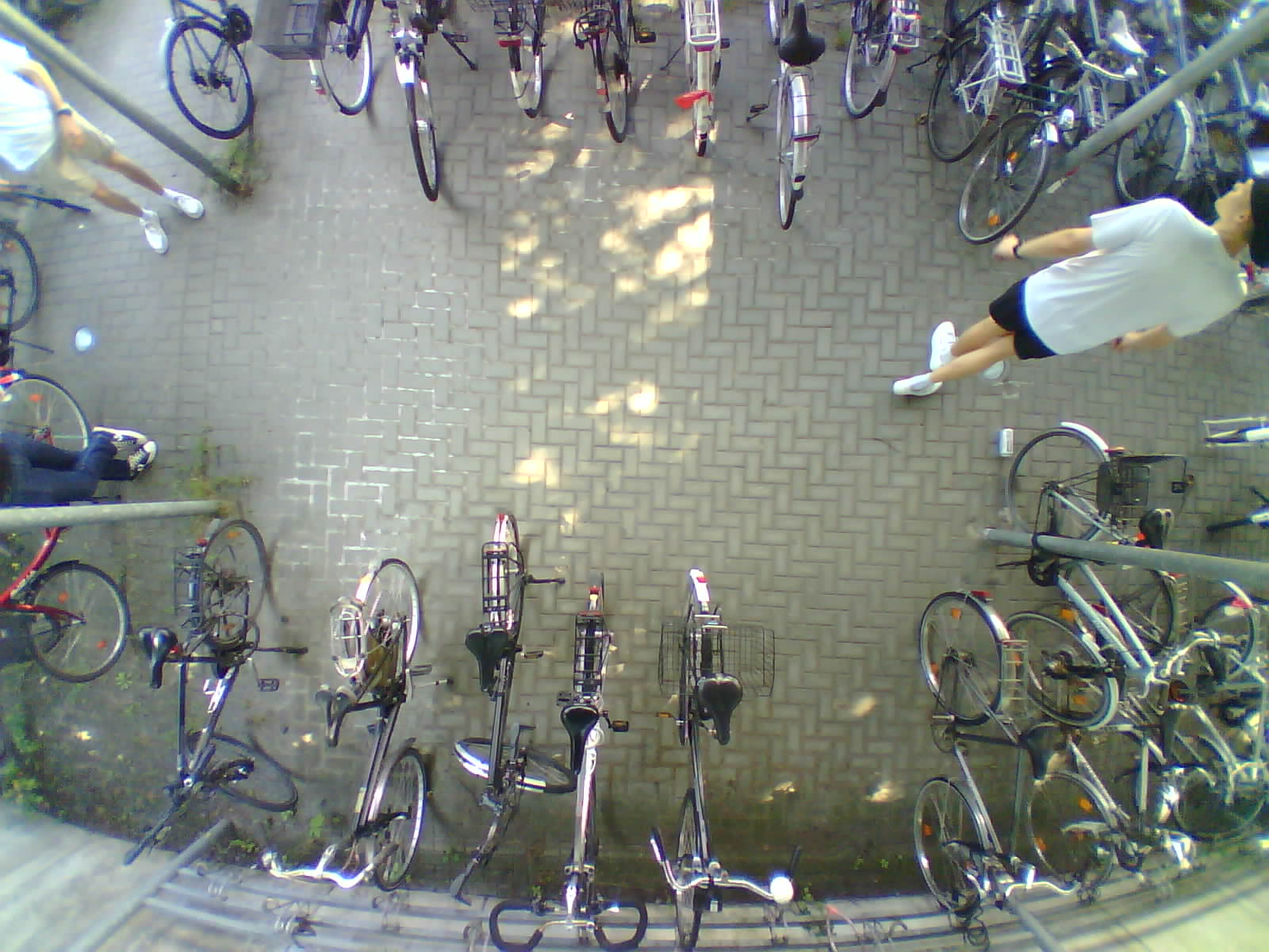bicylce: (999, 409, 1158, 724), (1083, 547, 1256, 832), (1033, 588, 1152, 908), (0, 370, 111, 688), (658, 571, 749, 952), (172, 513, 269, 822), (929, 587, 1015, 914), (342, 558, 425, 890), (470, 513, 543, 886), (555, 572, 622, 947), (977, 0, 1072, 250)
saddle: (698, 670, 746, 748), (775, 0, 828, 70), (134, 623, 178, 691), (1019, 718, 1066, 780), (466, 630, 512, 693), (315, 681, 359, 746), (560, 704, 598, 772), (1106, 11, 1150, 61), (1140, 501, 1179, 556), (1153, 697, 1184, 760), (1204, 638, 1228, 685), (1246, 79, 1269, 119)
